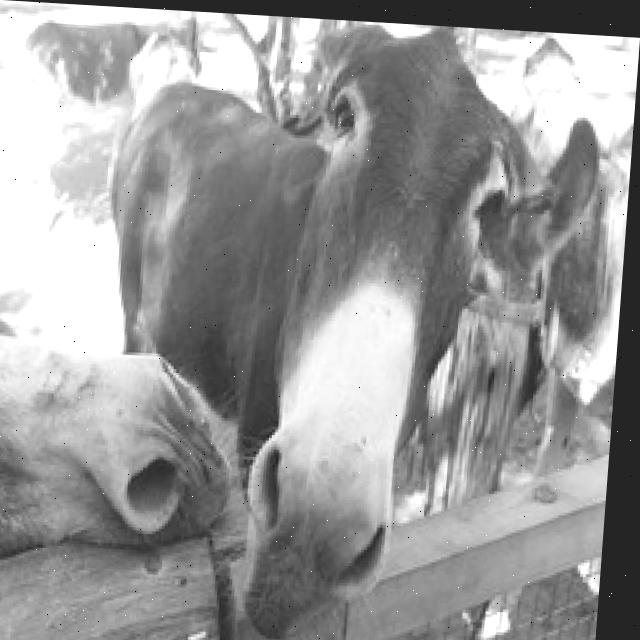Donkey: (231, 16, 609, 640), (88, 76, 332, 491), (0, 300, 244, 640), (479, 31, 637, 506)
